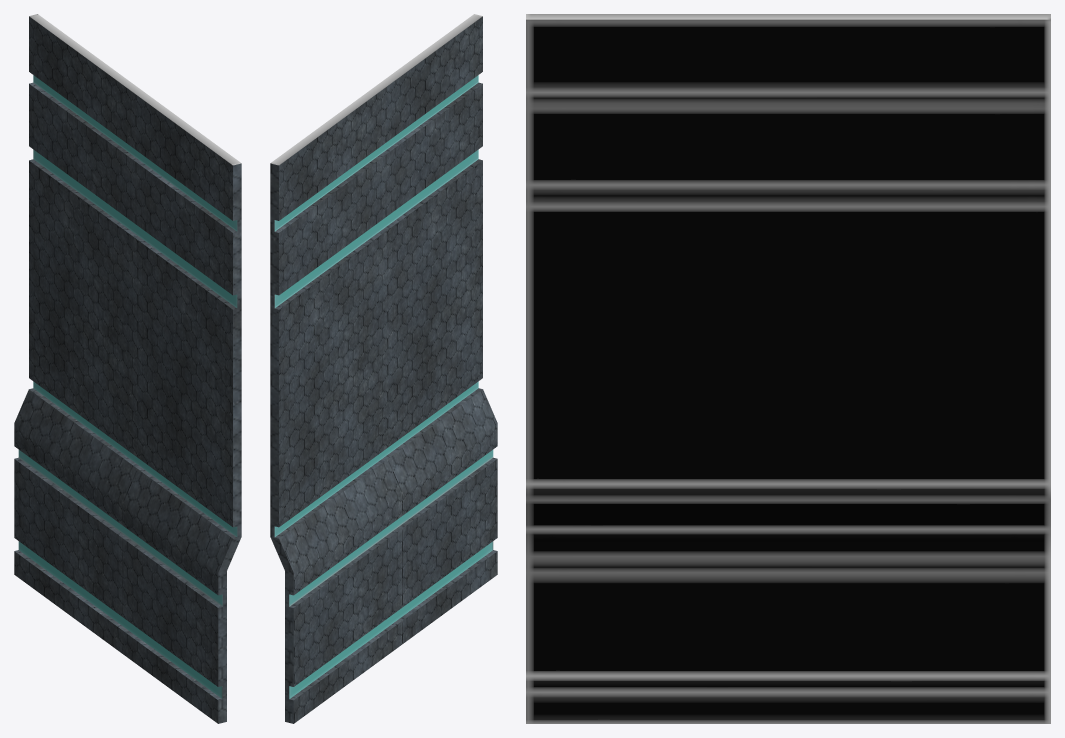
Rendered from Wall.fbx.
The picture shows the model from 3 angles, left to right: view 1: azimuth 30°, elevation 25°; view 2: azimuth 150°, elevation 25°; view 3: azimuth 270°, elevation 25°; orthographic projection. The views are drawn at different scales.
Parts seen in each view (by area): view 1: pCube10; view 2: pCube10; view 3: pCube10.
Part boxes in pixels (box(x1,y1,x2,y2)): pCube10: box(14, 14, 241, 723); pCube10: box(270, 14, 497, 723); pCube10: box(526, 14, 1050, 723).
Bounding box in the file's own units: 0.1333 × 3 × 2.
